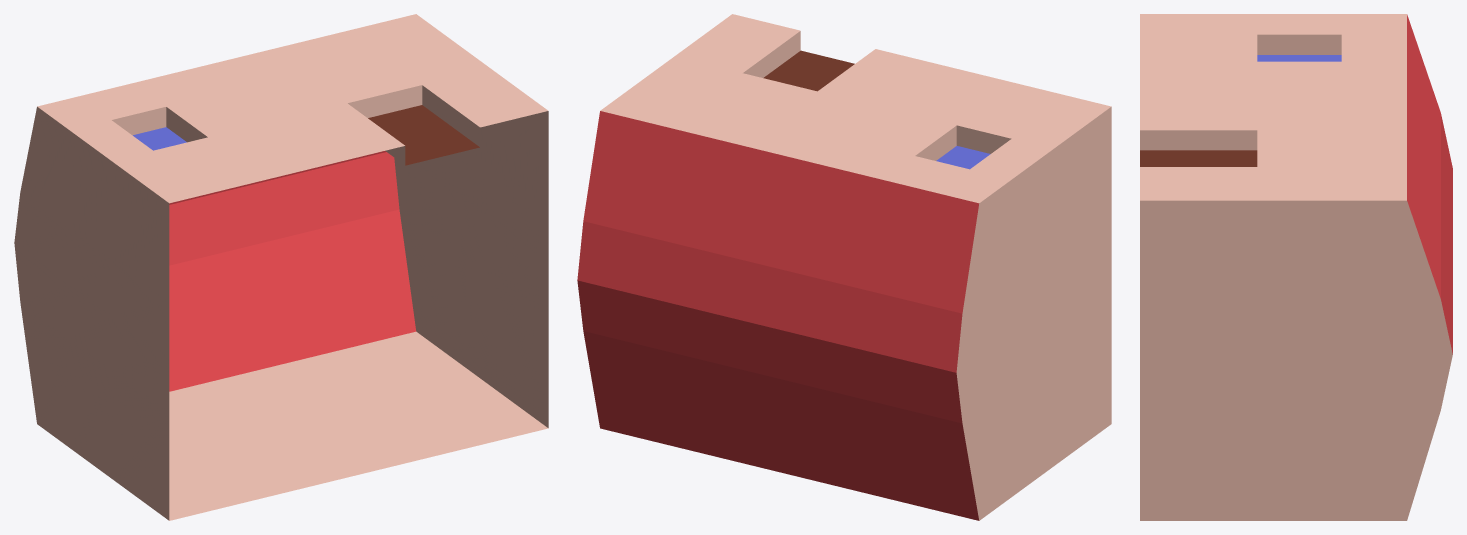
File: HouseCube.fbx
3 views of the same model, side by side, from view 1: azimuth 30°, elevation 25°; view 2: azimuth 150°, elevation 25°; view 3: azimuth 270°, elevation 25° (orthographic).
Parts seen in each view (by area): view 1: HouseCube; view 2: HouseCube; view 3: HouseCube.
Boxes of the visible parts, x1,y1,x2,y2 form: HouseCube: (14,14,548,520); HouseCube: (577,14,1111,520); HouseCube: (1140,14,1452,520).
Bounding box in the file's own units: 200 × 160 × 142.
